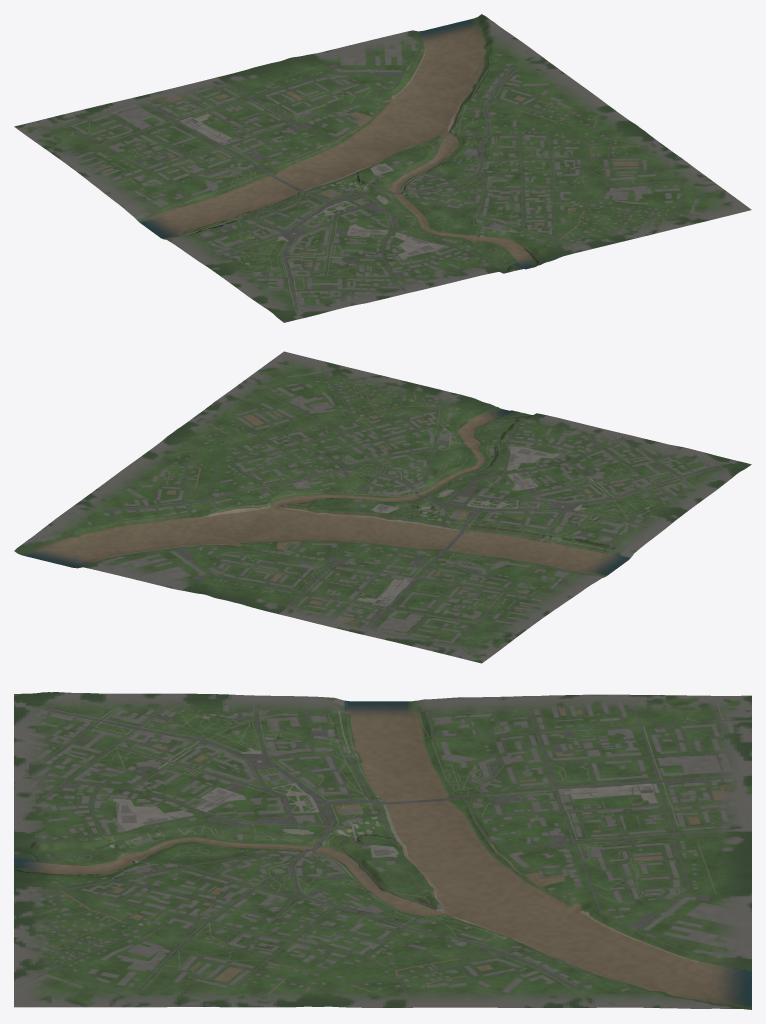
File: terrain.glb
3 views of the same model, one above another, from view 1: azimuth 30°, elevation 25°; view 2: azimuth 150°, elevation 25°; view 3: azimuth 270°, elevation 25° (orthographic). The views are drawn at different scales.
Visible parts, largest first — view 1: terrain_6_4, terrain_3_0, terrain_2_0, terrain_3_1, terrain_7_4, terrain_1_5, terrain_2_1, terrain_2_3, terrain_2_4, terrain_3_2, terrain_1_4, terrain_5_4 (+52 smaller); view 2: terrain_2_6, terrain_4_1, terrain_4_0, terrain_1_7, terrain_4_2, terrain_3_5, terrain_0_7, terrain_3_4, terrain_4_5, terrain_3_3, terrain_7_4, terrain_5_4 (+52 smaller); view 3: terrain_0_6, terrain_6_3, terrain_7_3, terrain_1_5, terrain_5_3, terrain_2_4, terrain_4_3, terrain_2_3, terrain_6_2, terrain_3_1, terrain_6_0, terrain_1_2 (+52 smaller).
Boxes of the visible parts, left/top/right/bottom form: terrain_6_4: left=451, top=203, right=542, bottom=245; terrain_3_0: left=115, top=188, right=206, bottom=229; terrain_2_0: left=82, top=161, right=173, bottom=201; terrain_3_1: left=174, top=174, right=265, bottom=215; terrain_7_4: left=484, top=227, right=575, bottom=269; terrain_1_5: left=340, top=67, right=431, bottom=106; terrain_2_1: left=140, top=148, right=231, bottom=187; terrain_2_3: left=257, top=120, right=348, bottom=159; terrain_2_4: left=316, top=107, right=407, bottom=147; terrain_3_2: left=232, top=160, right=322, bottom=200; terrain_1_4: left=282, top=81, right=373, bottom=120; terrain_5_4: left=417, top=179, right=508, bottom=220; terrain_2_6: left=140, top=489, right=231, bottom=532; terrain_4_1: left=500, top=511, right=591, bottom=554; terrain_4_0: left=558, top=525, right=650, bottom=568; terrain_1_7: left=48, top=500, right=139, bottom=542; terrain_4_2: left=442, top=497, right=533, bottom=539; terrain_3_5: left=232, top=479, right=323, bottom=521; terrain_0_7: left=14, top=525, right=105, bottom=567; terrain_3_4: left=291, top=497, right=382, bottom=536; terrain_4_5: left=266, top=454, right=357, bottom=497; terrain_3_3: left=349, top=508, right=440, bottom=548; terrain_7_4: left=426, top=394, right=517, bottom=436; terrain_5_4: left=358, top=443, right=450, bottom=484; terrain_0_6: left=659, top=930, right=751, bottom=974; terrain_6_3: left=106, top=812, right=198, bottom=857; terrain_7_3: left=14, top=811, right=106, bottom=856; terrain_1_5: left=567, top=892, right=659, bottom=935; terrain_5_3: left=198, top=812, right=290, bottom=855; terrain_2_4: left=475, top=854, right=567, bottom=896; terrain_4_3: left=290, top=813, right=382, bottom=857; terrain_2_3: left=475, top=814, right=567, bottom=857; terrain_6_2: left=106, top=772, right=198, bottom=812; terrain_3_1: left=383, top=737, right=475, bottom=779; terrain_6_0: left=106, top=693, right=198, bottom=733; terrain_1_2: left=567, top=774, right=659, bottom=814.
Size of the model in its own units: 2016 by 27.87 by 2016.
Materials: 1 (1 with a texture image).
